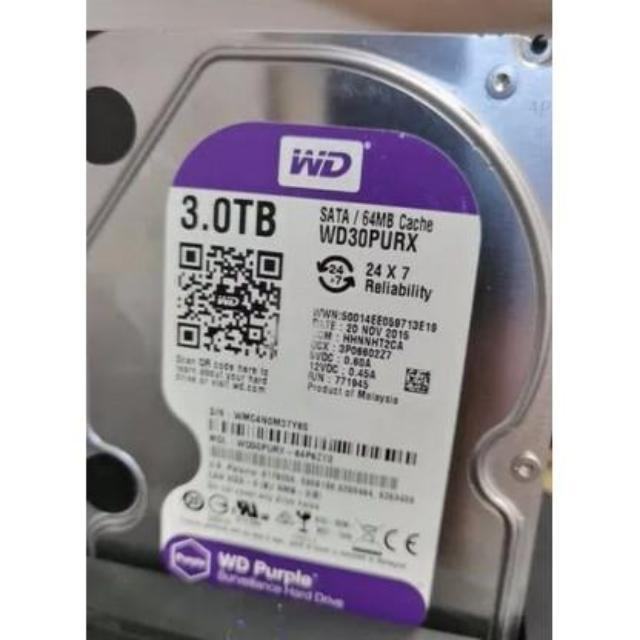DISK: (80, 17, 552, 640)
